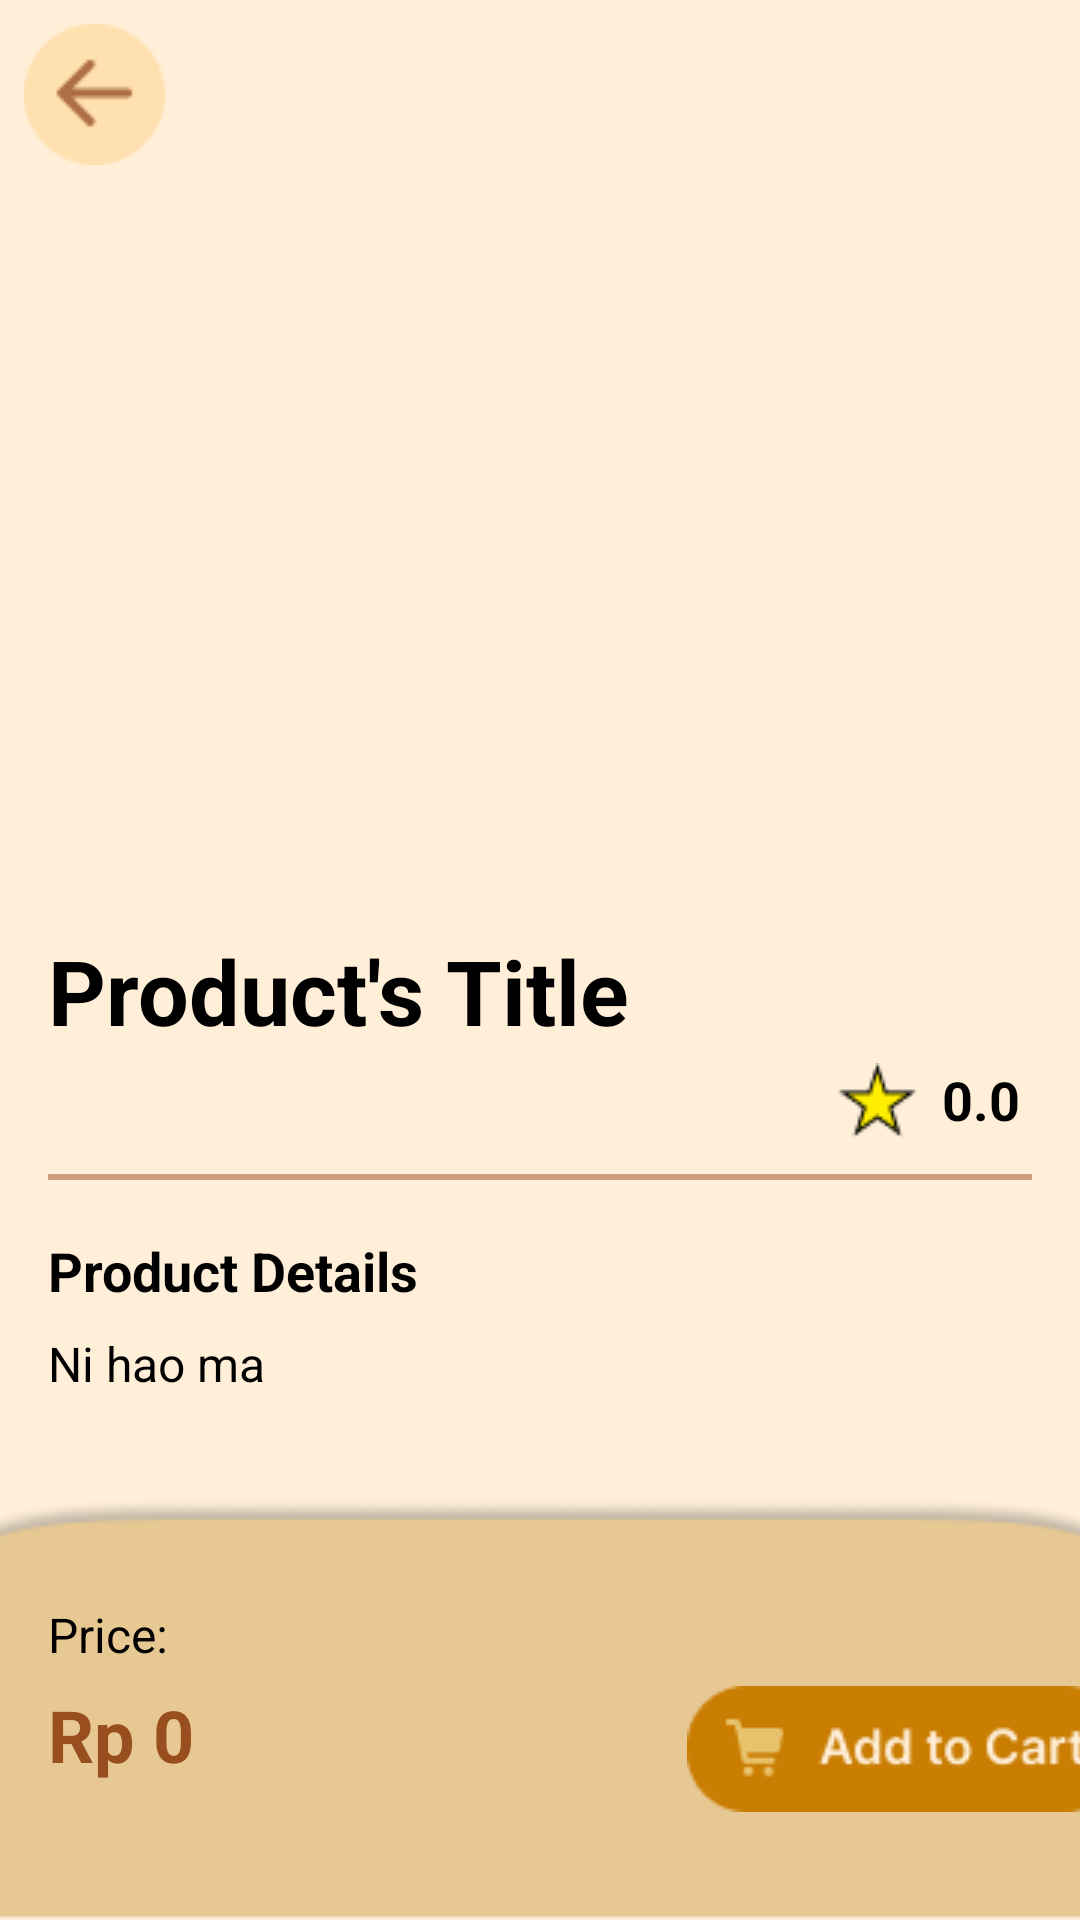

Named icons in this screenshot (1080x1920) and their bounding boxes, box=[x1, y1, x2, y2]:
back product detail: box=[24, 24, 165, 165]
star: box=[839, 1063, 916, 1136]
